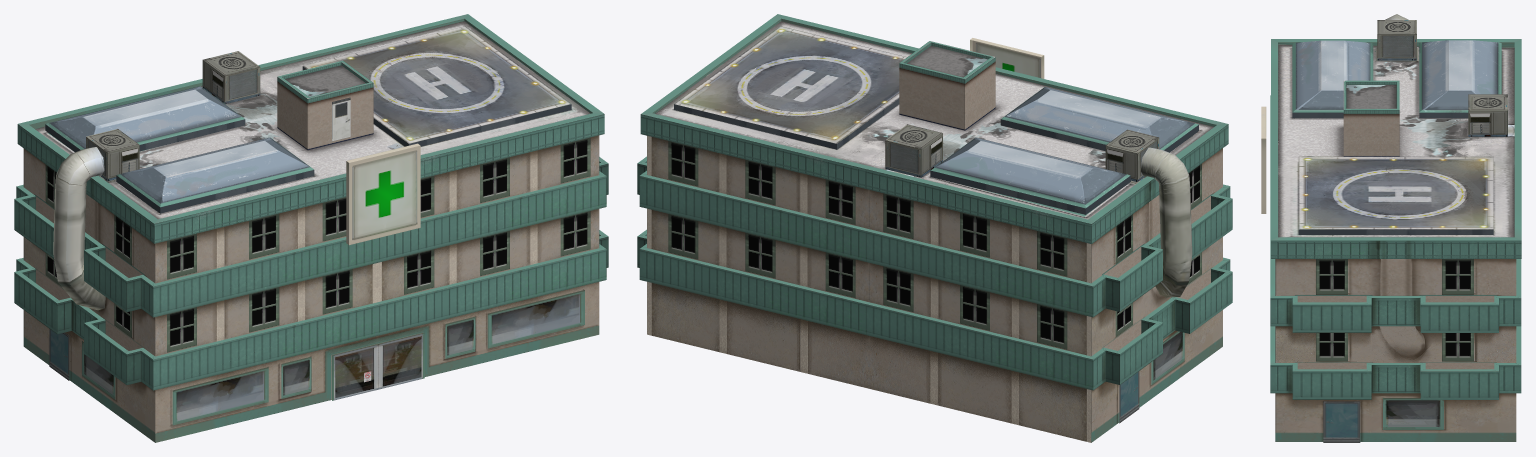
3 renders of one model, left to right at view 1: azimuth 30°, elevation 25°; view 2: azimuth 150°, elevation 25°; view 3: azimuth 270°, elevation 25°, orthographic. The views are drawn at different scales.
Parts seen in each view (by area): view 1: BD_ConcreteBlock1_RoadsGround_0.001; view 2: BD_ConcreteBlock1_RoadsGround_0.001; view 3: BD_ConcreteBlock1_RoadsGround_0.001.
Boxes of the visible parts, box(x1,y1,x2,y2) form: BD_ConcreteBlock1_RoadsGround_0.001: box(14, 14, 608, 442); BD_ConcreteBlock1_RoadsGround_0.001: box(637, 14, 1232, 442); BD_ConcreteBlock1_RoadsGround_0.001: box(1261, 14, 1521, 442).
Size of the model in its own units: 18.32 by 9.51 by 9.05.
Materials: 1 (1 with a texture image).
